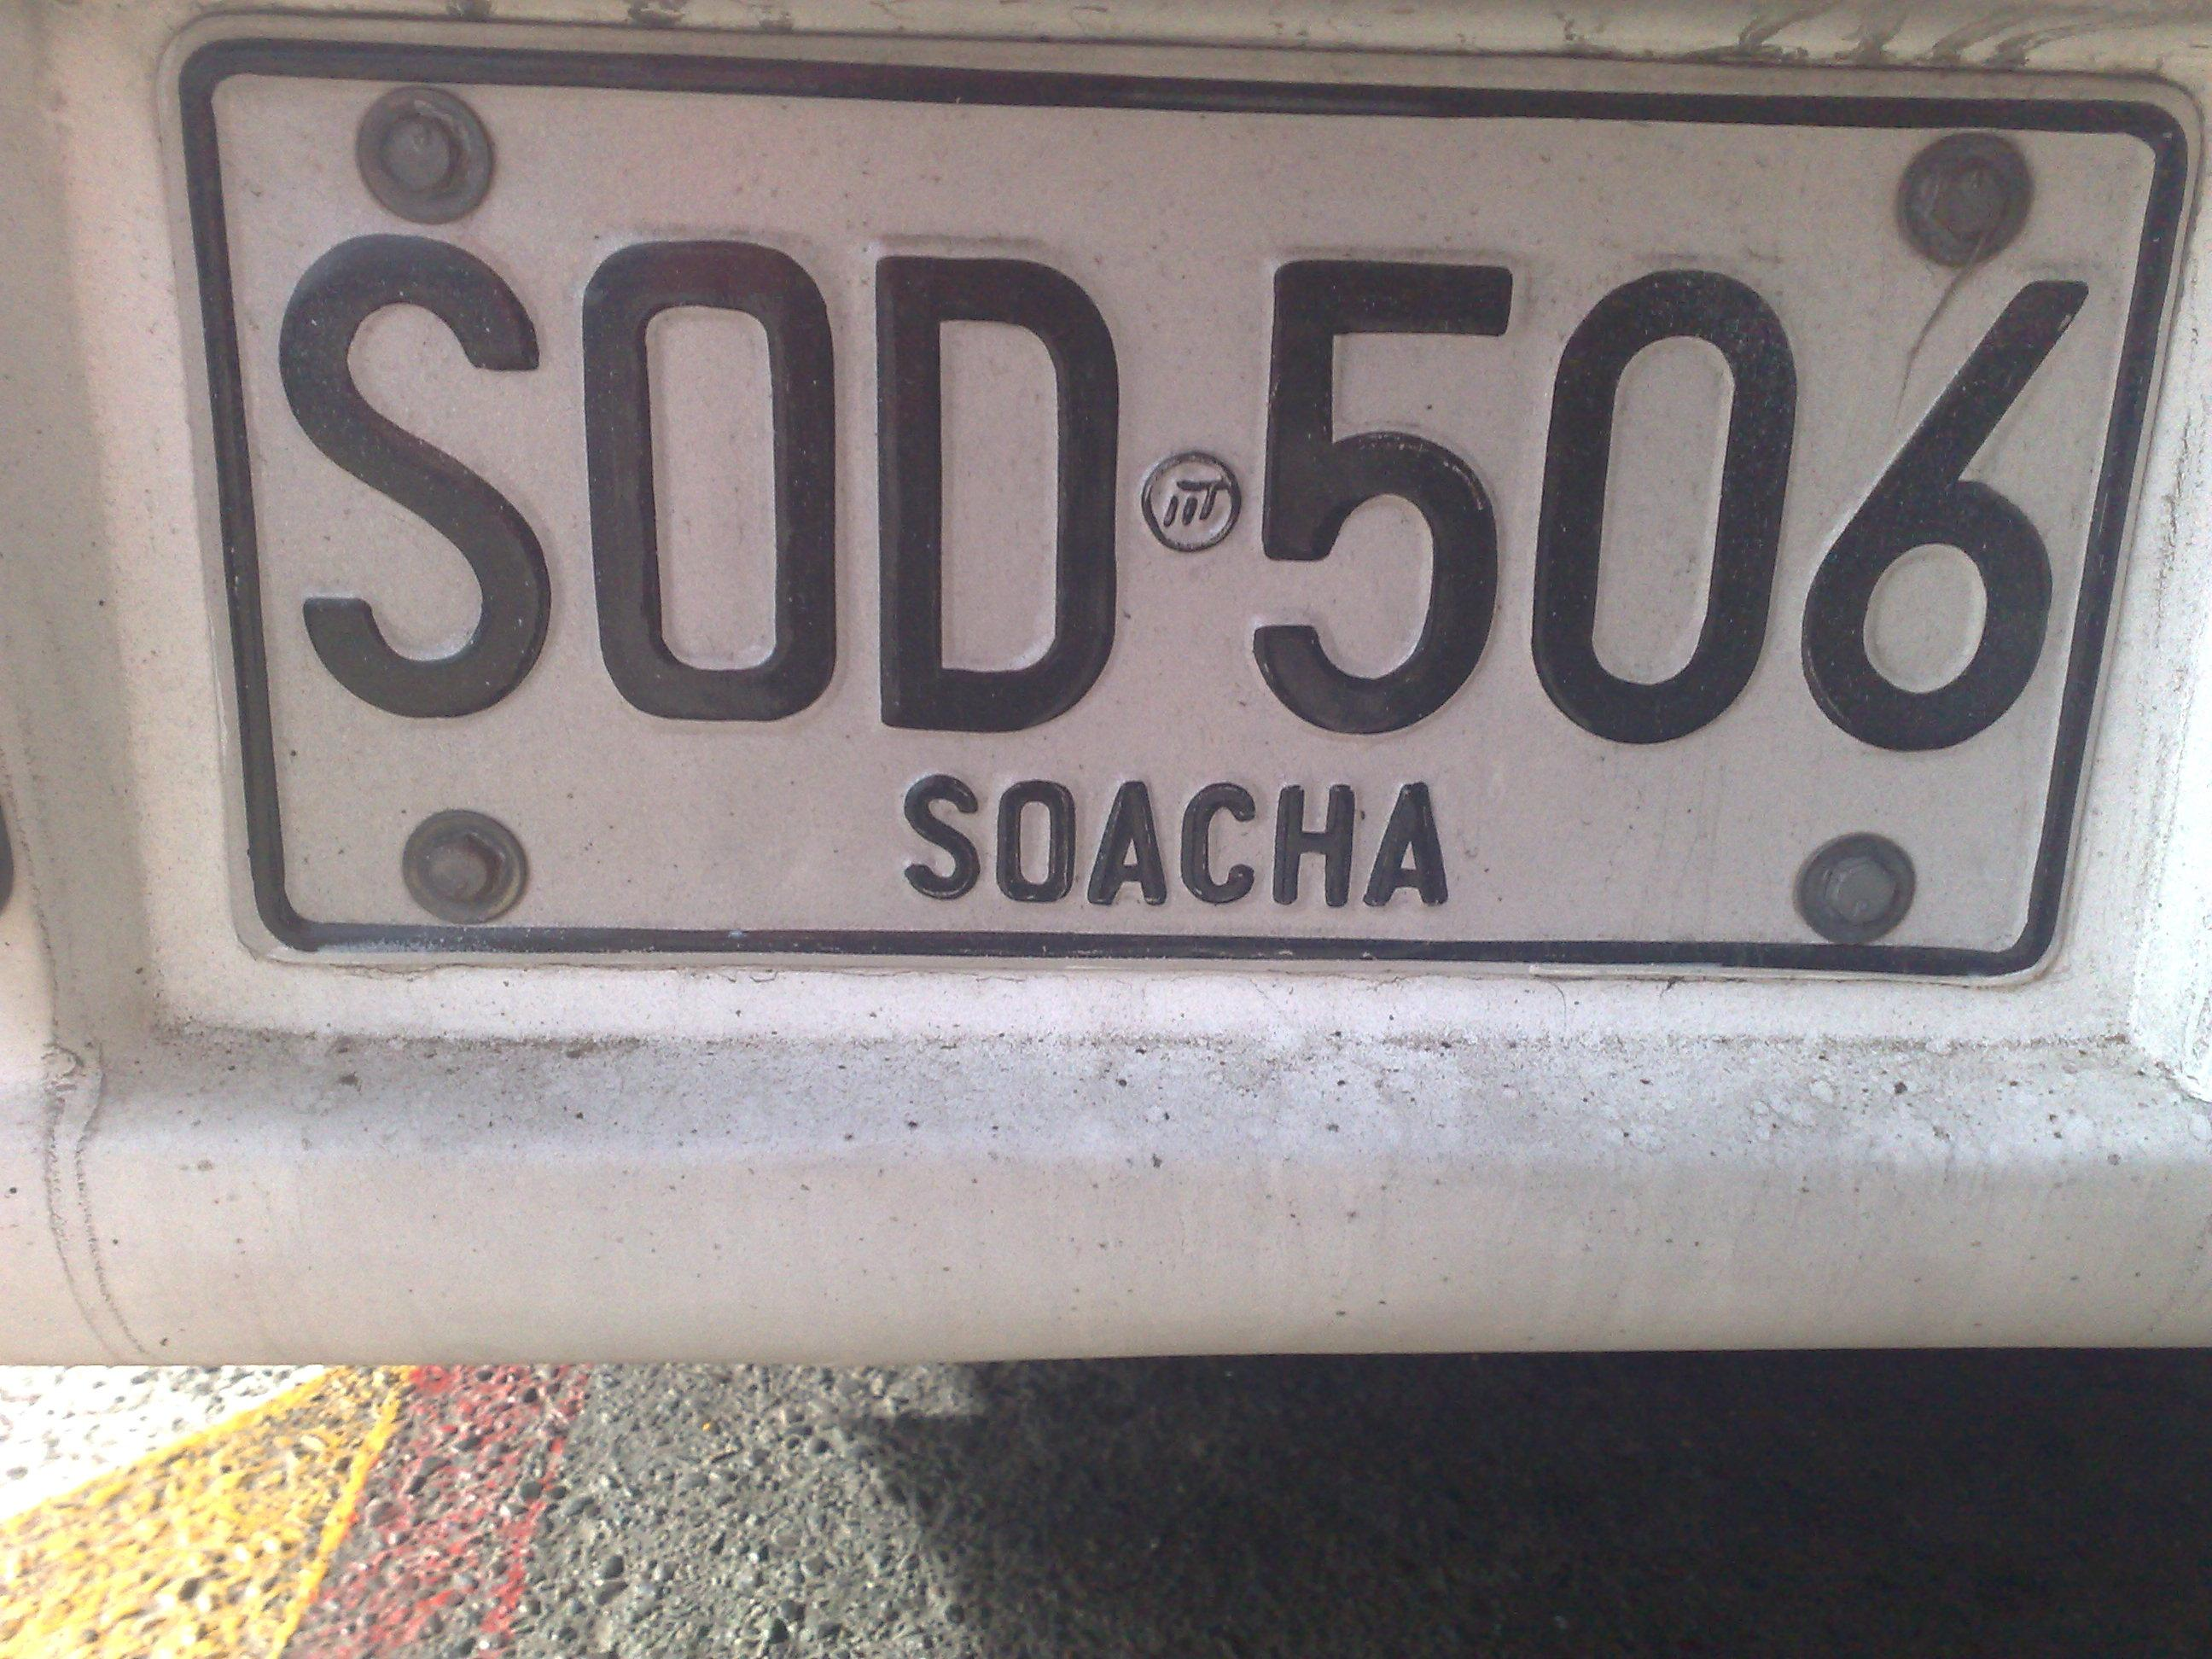placas: (141, 6, 2202, 999)
